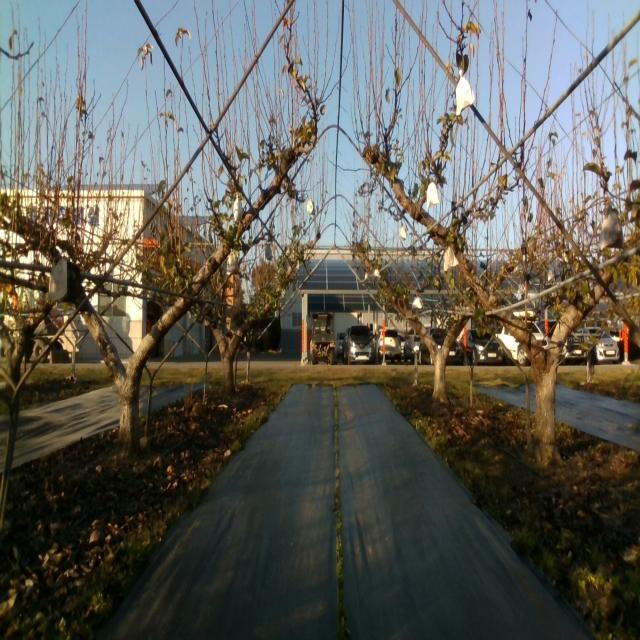pearbags: (599, 208, 623, 252), (454, 68, 475, 115), (426, 181, 440, 211), (444, 245, 459, 272), (229, 249, 239, 274)
